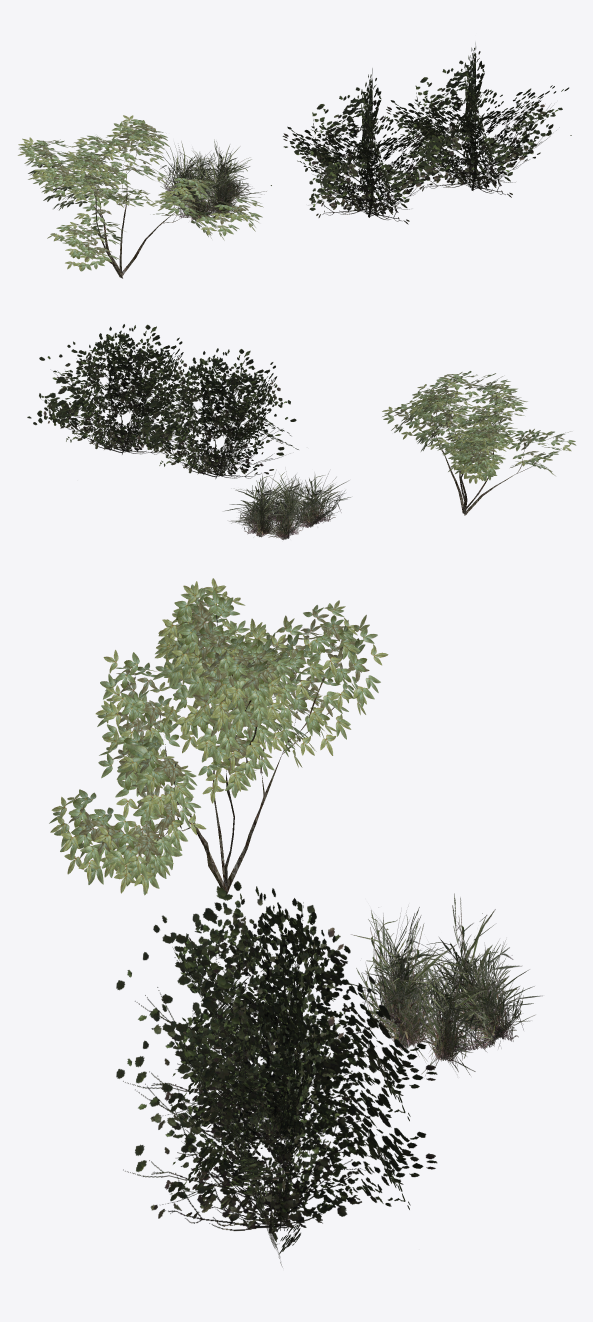
The picture shows the model from 3 angles, top to bottom: view 1: azimuth 30°, elevation 25°; view 2: azimuth 150°, elevation 25°; view 3: azimuth 270°, elevation 25°; orthographic projection. The views are drawn at different scales.
Visible parts, largest first — view 1: mesh_701, EWSSA, SEC, ESF, WEFE, DWE, WEF, WDA; view 2: SEC, EWSSA, mesh_701, WEF, WEFE, DWE, WDA, ESF; view 3: mesh_701, EWSSA, SEC, ESF, WEFE, WDA, DWE, WEF.
Boxes of the visible parts, box(x1,y1,x2,y2) form: mesh_701: box(18, 115, 263, 278); EWSSA: box(386, 43, 571, 197); SEC: box(270, 68, 468, 224); ESF: box(191, 156, 250, 213); WEFE: box(193, 139, 266, 197); DWE: box(154, 141, 214, 206); WEF: box(164, 158, 235, 221); WDA: box(170, 151, 219, 194); SEC: box(121, 348, 298, 478); EWSSA: box(27, 324, 202, 454); mesh_701: box(382, 371, 576, 515); WEF: box(277, 471, 350, 527); WEFE: box(223, 472, 296, 527); DWE: box(265, 477, 313, 539); WDA: box(237, 488, 291, 537); ESF: box(263, 471, 310, 524); mesh_701: box(49, 578, 388, 895); EWSSA: box(116, 970, 437, 1266); SEC: box(116, 881, 437, 1166); ESF: box(349, 918, 471, 1061); WEFE: box(401, 943, 498, 1075); WDA: box(438, 940, 542, 1048); DWE: box(410, 893, 521, 1029); WEF: box(351, 907, 444, 1032).
Size of the model in its own units: 0.4863 by 0.1527 by 0.2065.
Materials: 4 (4 with a texture image).
